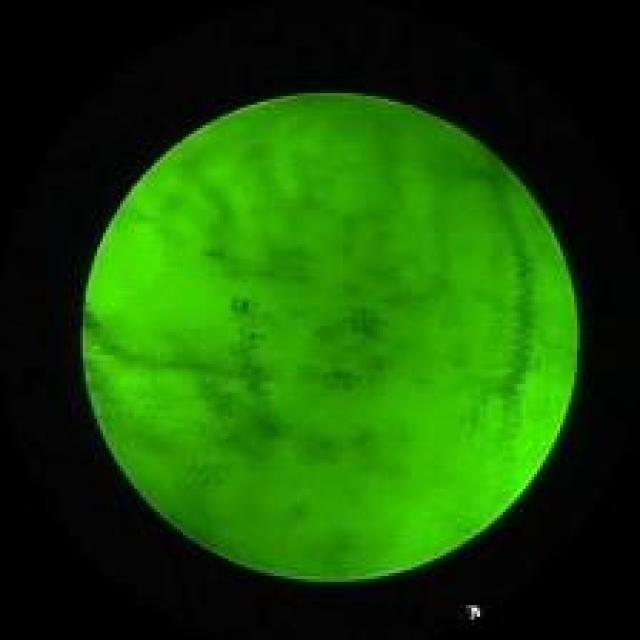blur: (85, 96, 578, 585)
color misalignment: (463, 604, 485, 625)
